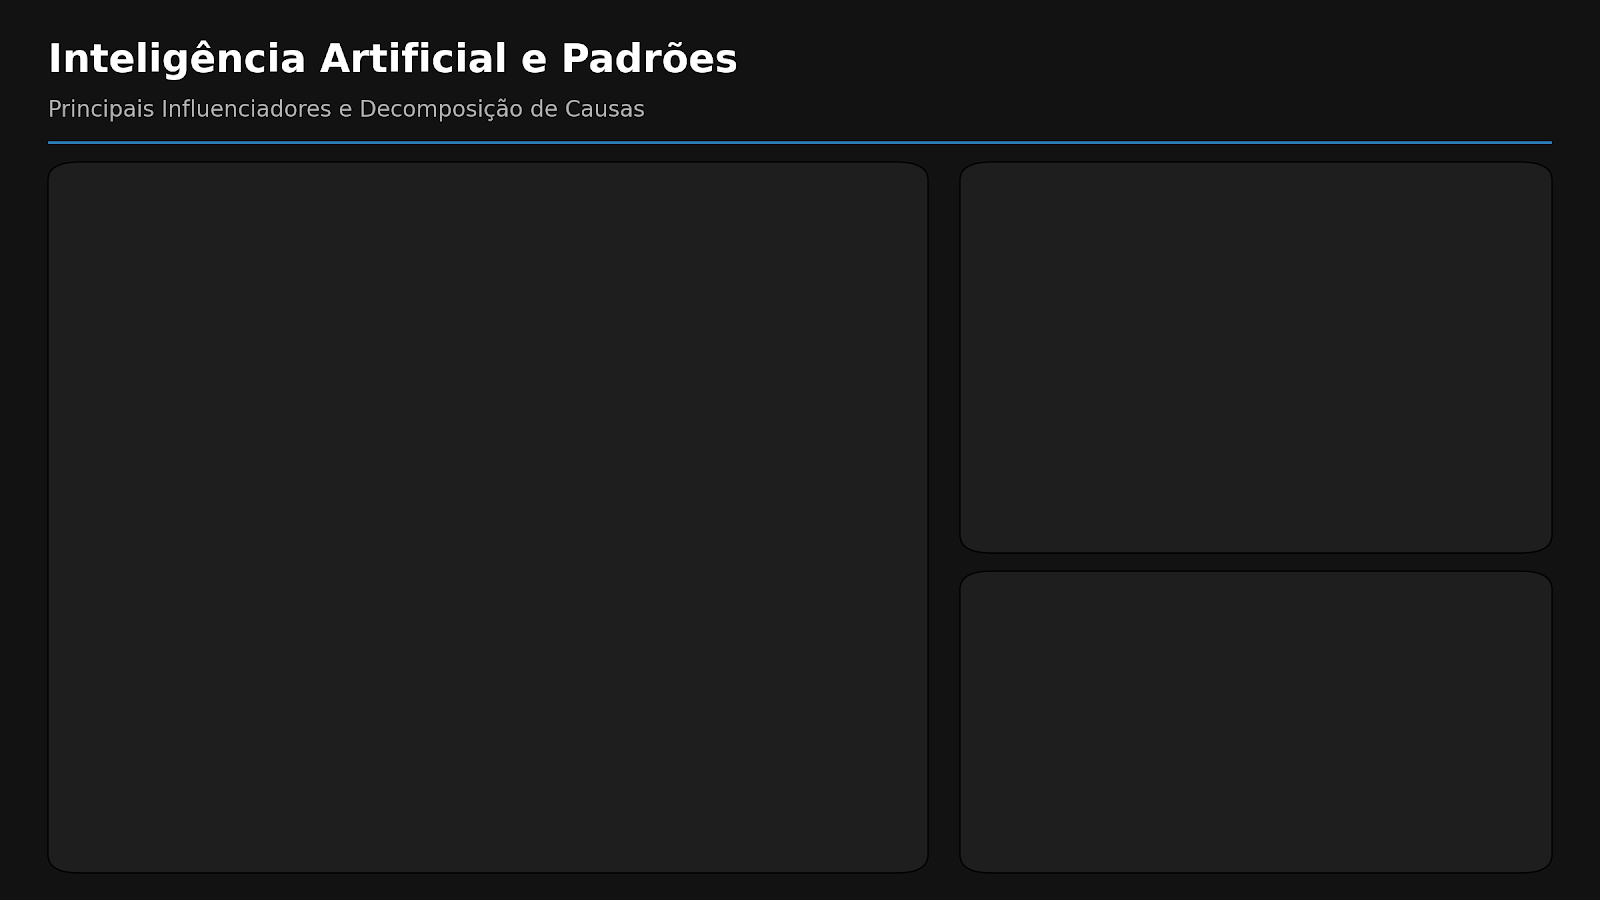

This screenshot's page, from the dashboard's own definition file:
{"tool":"powerbi","page":{"name":"Inteligência Artificial e Padrões","canvas":[1280,720],"ordinal":2},"visuals":[{"type":"keyDriversVisual","fields":{"Target":["survey_tratado.Tipo Estresse"],"ExplainBy":["Avg(survey_tratado.Dores de Cabeça)","Avg(survey_tratado.Solidão)","Avg(survey_tratado.Sobrecarga Academica)","Avg(survey_tratado.Ambiente Trabalho)","Avg(survey_tratado.Ansiedade/Tensão)","Avg(survey_tratado.Problemas Saúde)"]},"box":[40.6,135,696,577.8],"z":0},{"type":"decompositionTreeVisual","fields":{"Analyze":["Avg(fatores_tratado.Nivel Estresse)"],"ExplainBy":["fatores_tratado.Depressão","fatores_tratado.Qualidade de Sono","fatores_tratado.Autoestima","fatores_tratado.Carga de Estudos","fatores_tratado.Dor de Cabeça","fatores_tratado.Histórico Saúde Mental"]},"box":[775.1,134.7,460,308.3],"z":1000},{"type":"pythonVisual","fields":{"Values":["survey_tratado.Tipo Estresse","fatores_tratado.Nivel Estresse","fatores_tratado.ID_Aluno"]},"box":[774.7,465,459.7,224.1],"z":2000}]}

Visuals, with their boxes in screenshot pixels (x1, y1, x2, y2), scaled from the page's 1280x720 canvas onto the 1600x900 screenshot:
keyDriversVisual - survey_tratado.Tipo Estresse x Avg(survey_tratado.Dores de Cabeça): select_region(51, 169, 921, 891)
decompositionTreeVisual - Avg(fatores_tratado.Nivel Estresse) x fatores_tratado.Depressão: select_region(969, 168, 1544, 554)
pythonVisual - survey_tratado.Tipo Estresse x fatores_tratado.Nivel Estresse: select_region(968, 581, 1543, 861)
